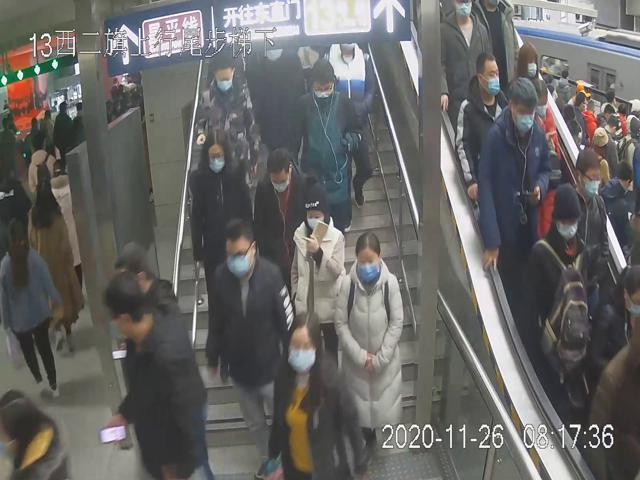person: (202, 216, 289, 462), (268, 311, 366, 480), (332, 231, 403, 459), (522, 184, 592, 401), (477, 75, 549, 273), (284, 56, 361, 235), (289, 172, 345, 372), (188, 123, 256, 287), (252, 144, 314, 299), (193, 50, 260, 192), (457, 51, 508, 200)
